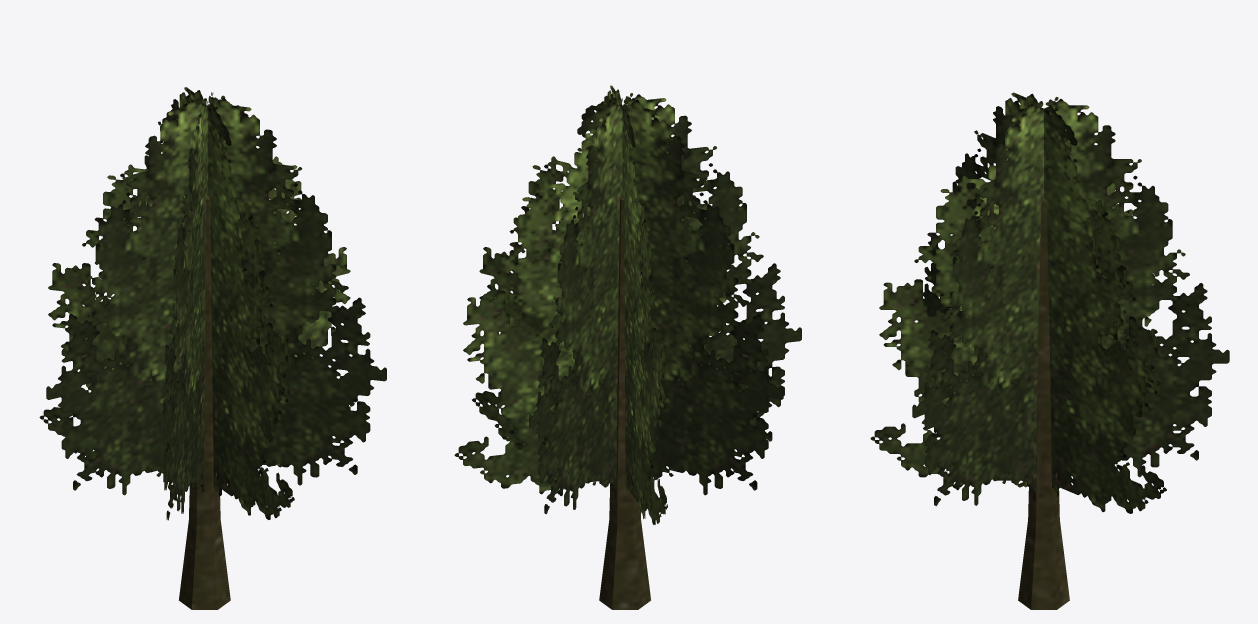
The model's file is tree18.glb.
3 views of the same model, side by side, from view 1: azimuth 30°, elevation 25°; view 2: azimuth 150°, elevation 25°; view 3: azimuth 270°, elevation 25° (orthographic).
Visible parts, largest first — view 1: tree18; view 2: tree18; view 3: tree18.
Boxes of the visible parts, x1=… form: tree18: x1=39, y1=87, x2=386, y2=609; tree18: x1=454, y1=85, x2=801, y2=609; tree18: x1=870, y1=92, x2=1229, y2=609.
Size of the model in its own units: 8.99 by 12.5 by 8.99.
Materials: 1 (1 with a texture image).
